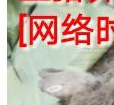text: (41, 77, 66, 100)
